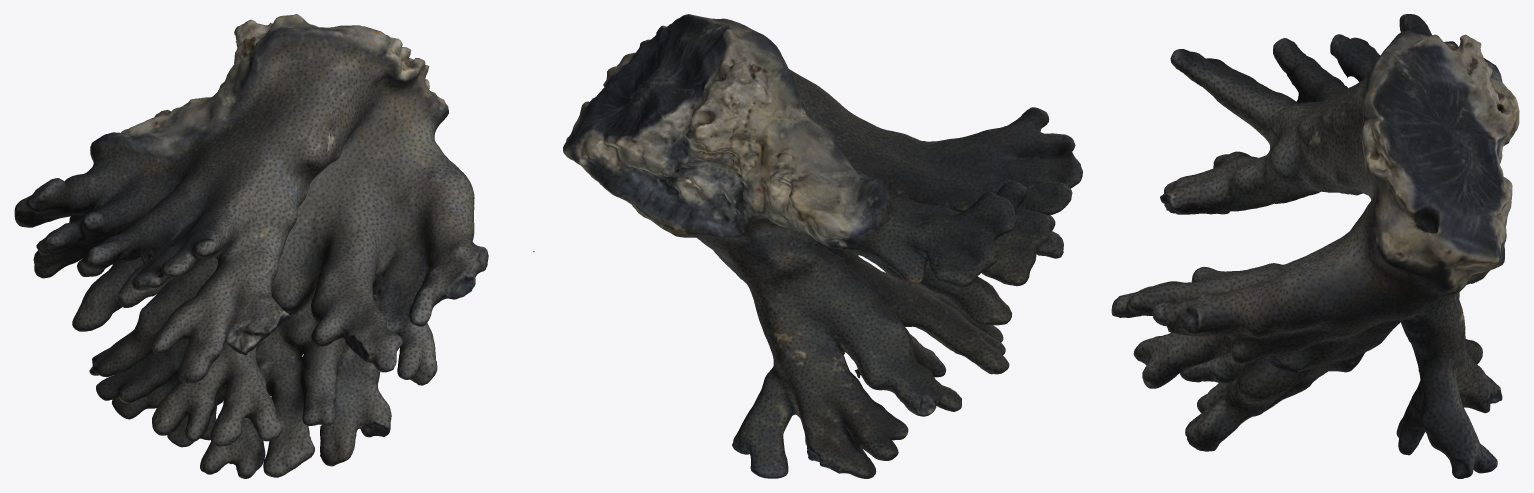
File: smithsonian-heliopora-coerulea.glb
3 renders of one model, left to right at view 1: azimuth 30°, elevation 25°; view 2: azimuth 150°, elevation 25°; view 3: azimuth 270°, elevation 25°, orthographic. The views are drawn at different scales.
Bounding box in the file's own units: 0.1569 × 0.1384 × 0.1087.
1 material, 1 textured.
